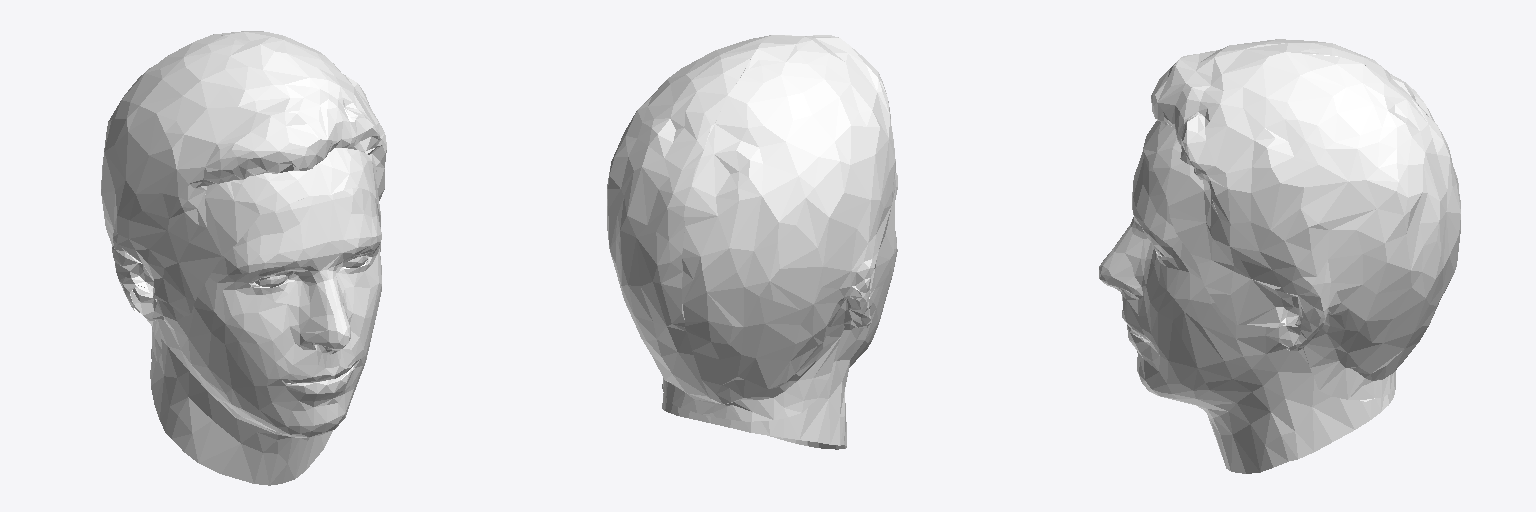
The model's file is christian.obj.
3 views of the same model, side by side, from view 1: azimuth 30°, elevation 25°; view 2: azimuth 150°, elevation 25°; view 3: azimuth 270°, elevation 25° (orthographic).
Visible parts, largest first — view 1: model; view 2: model; view 3: model.
Boxes of the visible parts, <box> form: model: <box>101,31,386,485</box>; model: <box>607,35,897,449</box>; model: <box>1099,39,1460,473</box>.
Bounding box in the file's own units: 1.71 × 2.77 × 2.19.